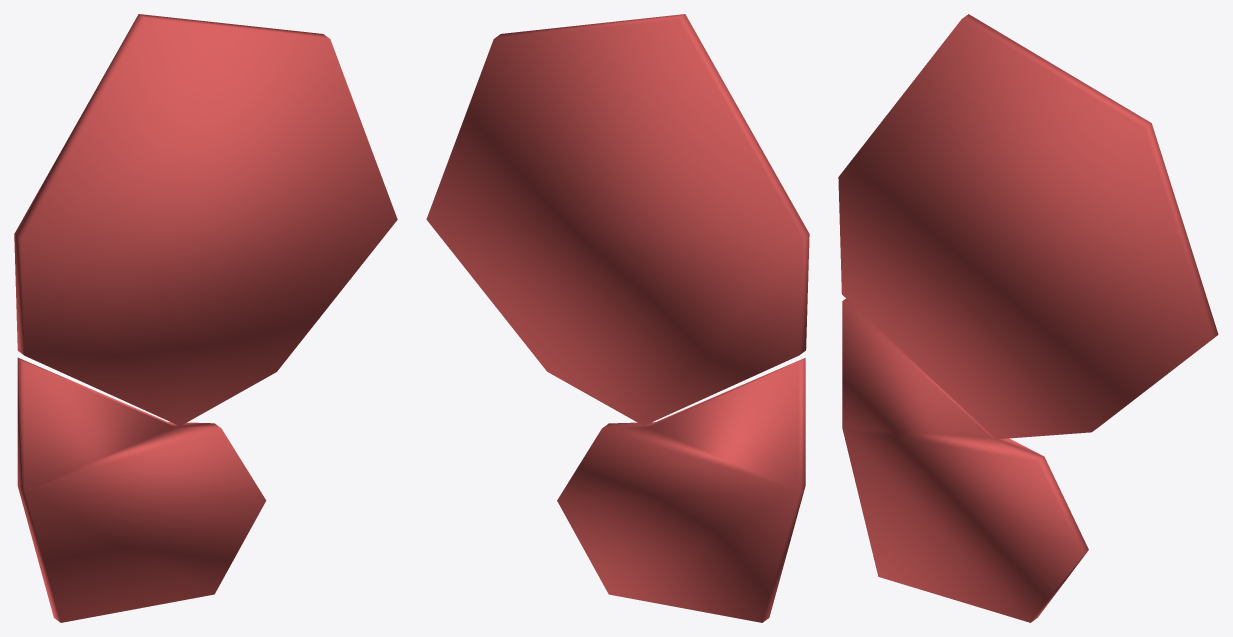
File: Mariposa_W_Left.FBX
The picture shows the model from 3 angles, left to right: view 1: azimuth 30°, elevation 25°; view 2: azimuth 150°, elevation 25°; view 3: azimuth 330°, elevation 25°; orthographic projection.
Visible parts, largest first — view 1: Wing_Left; view 2: Wing_Left; view 3: Wing_Left.
Part boxes in pixels (bbox=[...]): Wing_Left: bbox=[14, 14, 397, 622]; Wing_Left: bbox=[426, 14, 809, 622]; Wing_Left: bbox=[838, 14, 1218, 622].
Bounding box in the file's own units: 619 × 932 × 20.87.
